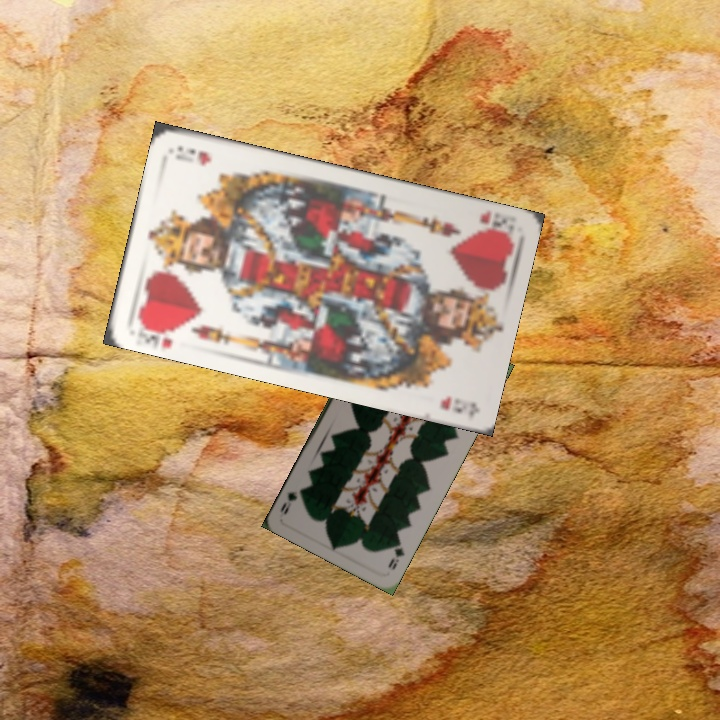G9: (384, 535, 407, 573)
HK: (134, 316, 184, 351), (473, 207, 512, 240)
